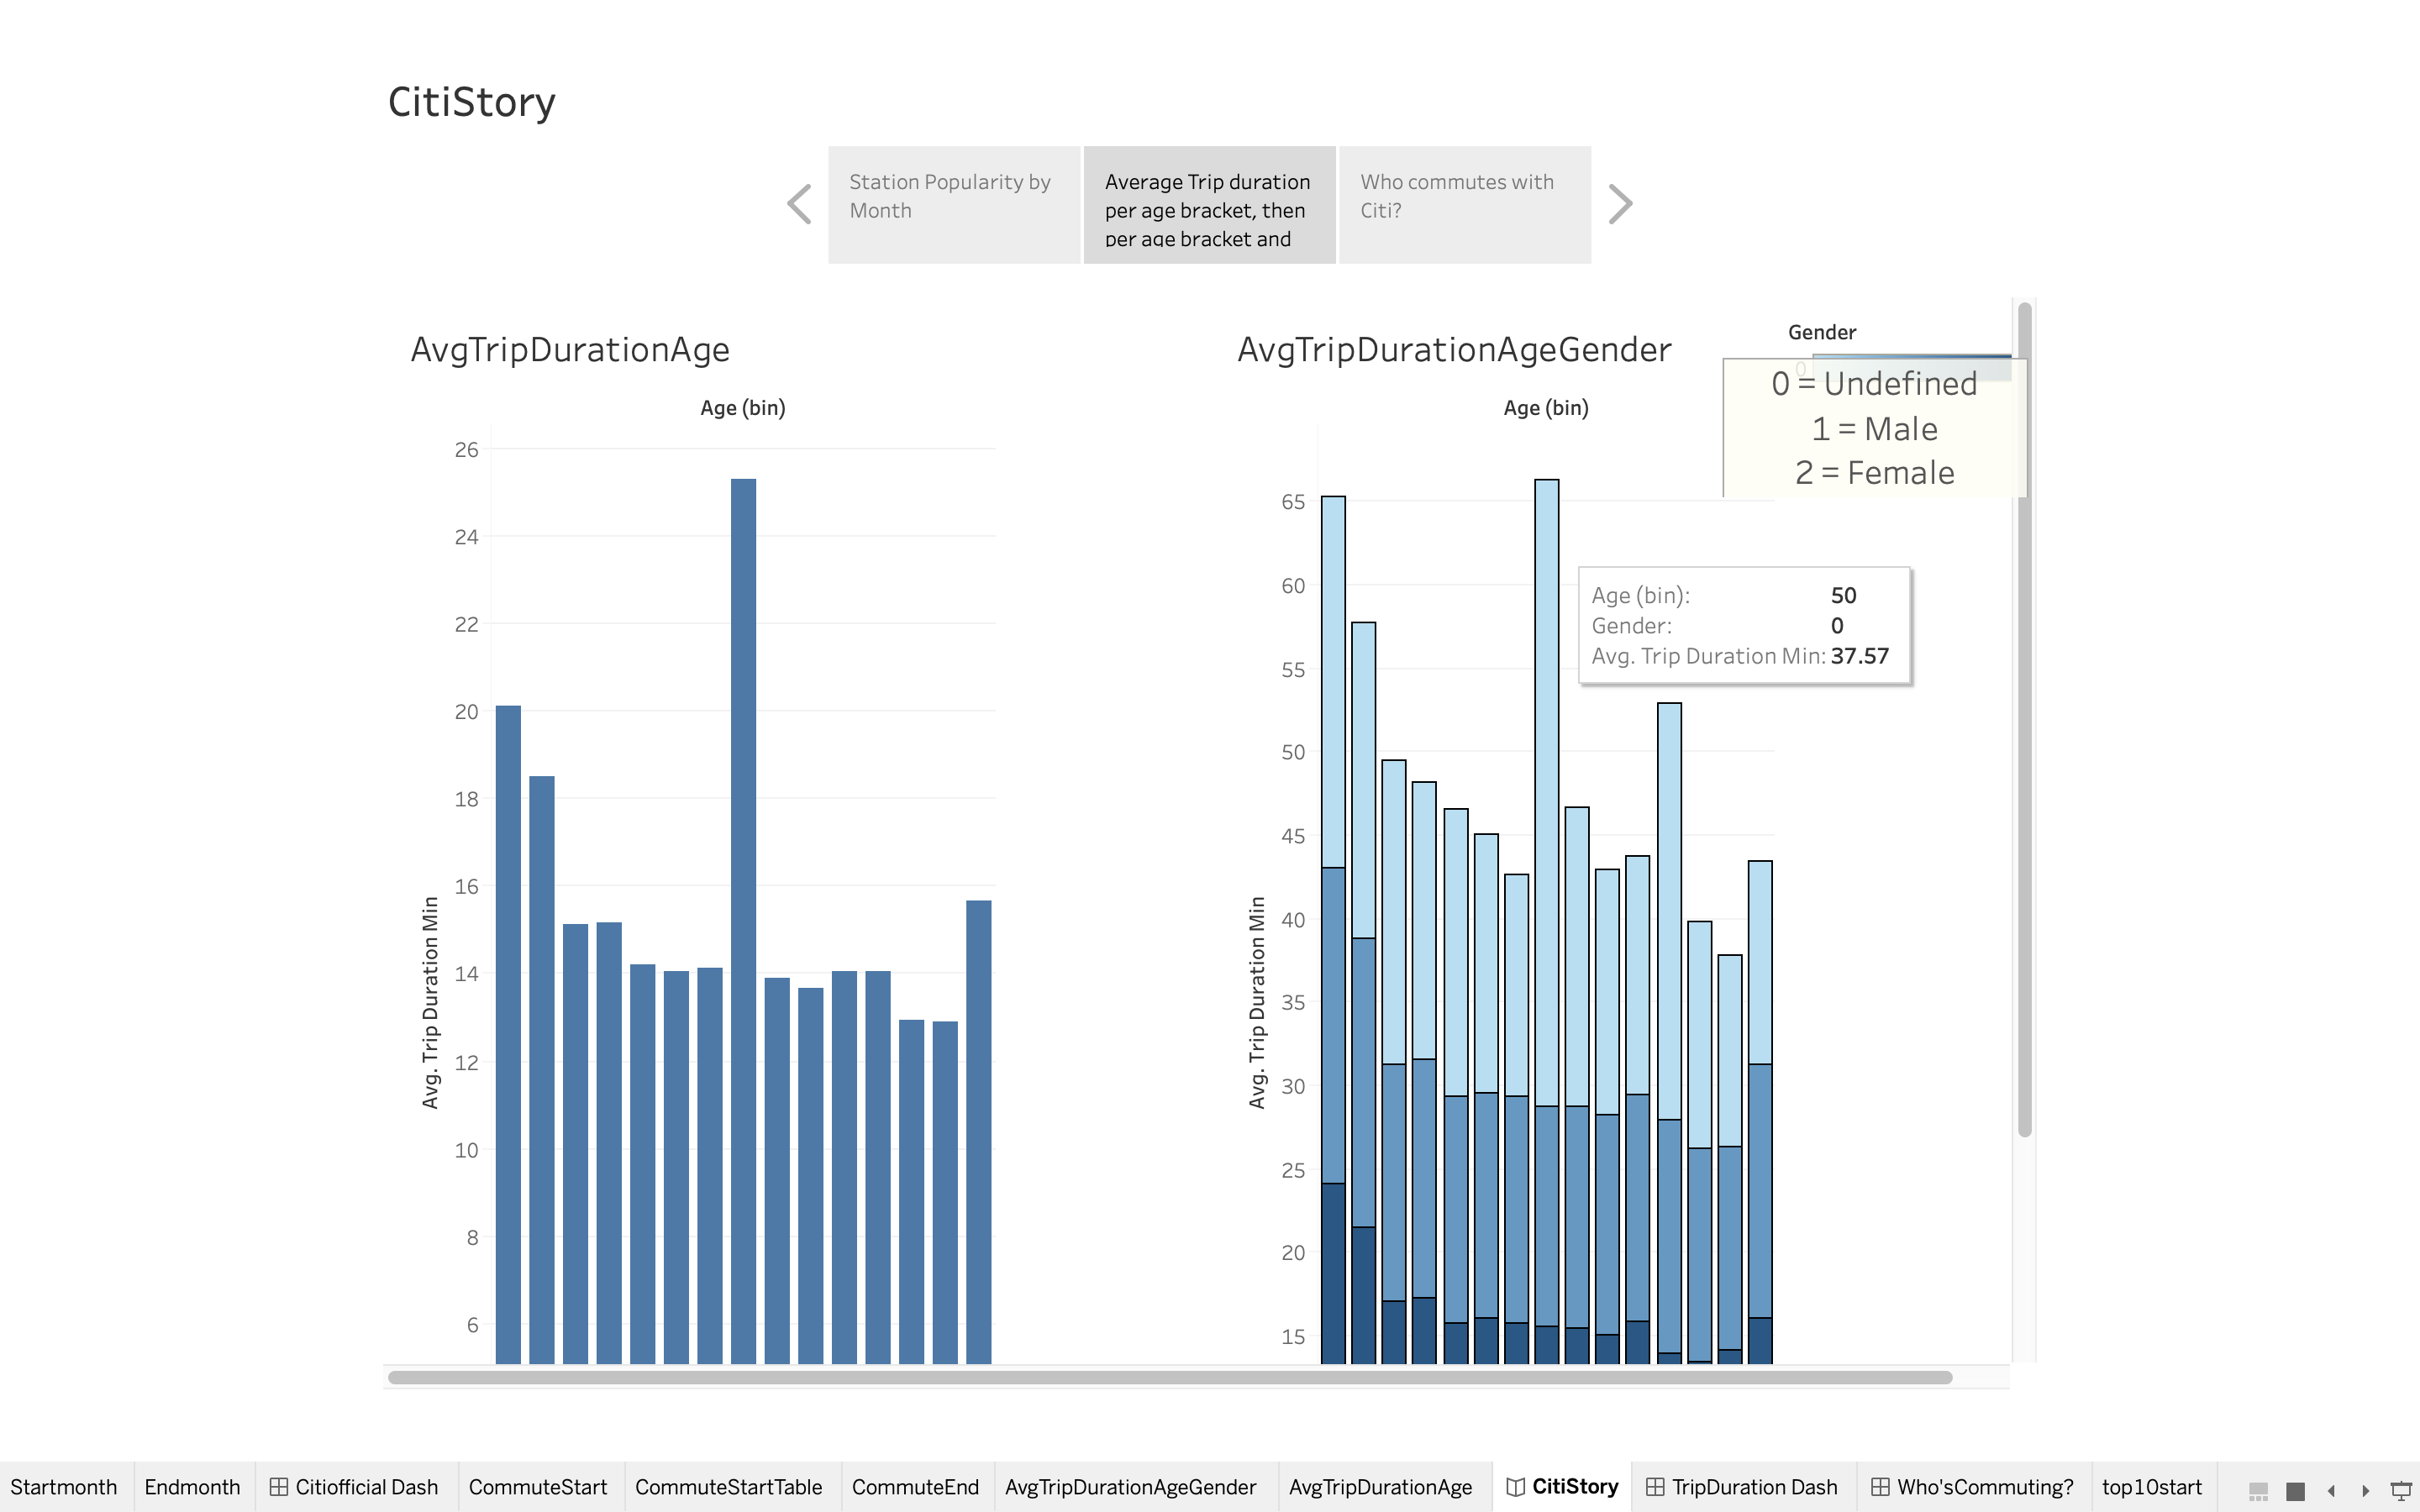

Layout of this report page (visuals, bound fields, positions):
{"tool":"tableau","page":{"name":"TripDuration Dash","canvas":[1000,800],"ordinal":1},"visuals":[{"type":"worksheet","title":"AvgTripDurationAge","mark":"Automatic","rows":["Calculation_2221963477806198787"],"cols":["Age (bin)"],"box":[8,8,492,784]},{"type":"worksheet","title":"AvgTripDurationAgeGender","mark":"Automatic","rows":["Calculation_2221963477806198787"],"cols":["Age (bin)"],"box":[500,8,332,784]},{"type":"legend","title":"AvgTripDurationAgeGender","param":"[federated.1m6aai70d4kahj16i3lhl10j2uu9].[none:gender:qk]","box":[832,8,160,65]}]}

Visuals, with their boxes on the page's 1000x800 design canvas (x1, y1, x2, y2). These are canvas units, not pixel positions in the 2420x1512 screenshot, which may show the page scaled, cropped or inside an application window:
"AvgTripDurationAge" worksheet: (x1=8, y1=8, x2=500, y2=792)
"AvgTripDurationAgeGender" worksheet: (x1=500, y1=8, x2=832, y2=792)
"AvgTripDurationAgeGender" legend: (x1=832, y1=8, x2=992, y2=73)
